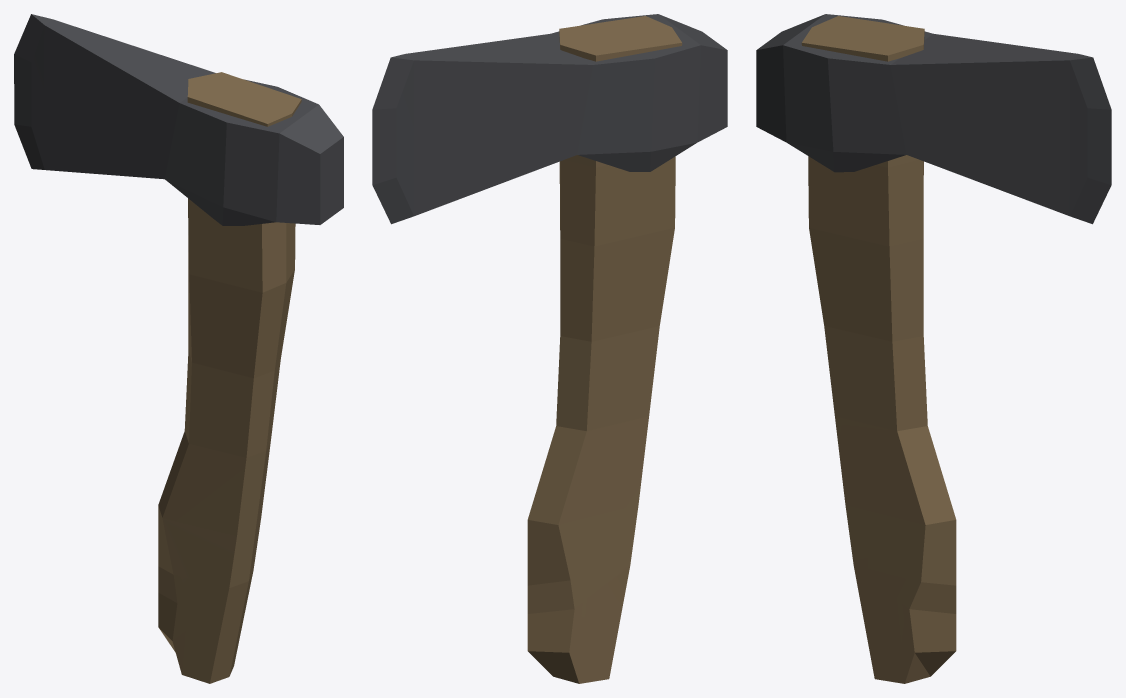
Rendered from Topor.fbx.
3 views of the same model, side by side, from view 1: azimuth 90°, elevation 25°; view 2: azimuth 150°, elevation 25°; view 3: azimuth 270°, elevation 25° (orthographic). The views are drawn at different scales.
Parts seen in each view (by area): view 1: _2d54ed93bbb478f94ae4e160aa74078_obj_cleaner_materialmerger_; view 2: _2d54ed93bbb478f94ae4e160aa74078_obj_cleaner_materialmerger_; view 3: _2d54ed93bbb478f94ae4e160aa74078_obj_cleaner_materialmerger_.
Part boxes in pixels (<box>): _2d54ed93bbb478f94ae4e160aa74078_obj_cleaner_materialmerger_: <box>14,14,343,683</box>; _2d54ed93bbb478f94ae4e160aa74078_obj_cleaner_materialmerger_: <box>372,14,727,683</box>; _2d54ed93bbb478f94ae4e160aa74078_obj_cleaner_materialmerger_: <box>756,14,1111,683</box>.
Size of the model in its own units: 46.5 by 155 by 75.17.
Materials: 1 (1 with a texture image).
